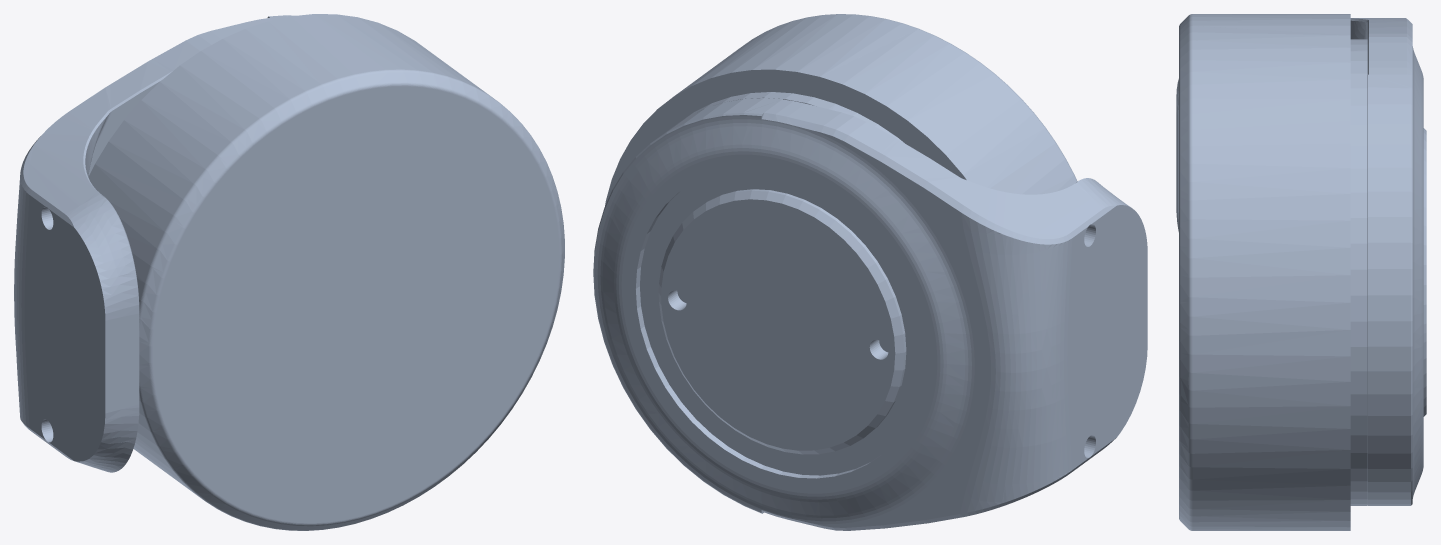
File: hip.dae
3 views of the same model, side by side, from view 1: azimuth 30°, elevation 25°; view 2: azimuth 150°, elevation 25°; view 3: azimuth 270°, elevation 25° (orthographic). The views are drawn at different scales.
Parts seen in each view (by area): view 1: Hip; view 2: Hip; view 3: Hip.
Part boxes in pixels (bbox=[...]): Hip: bbox=[14, 14, 564, 530]; Hip: bbox=[593, 14, 1147, 530]; Hip: bbox=[1176, 14, 1426, 530].
Size of the model in its own units: 0.1 by 0.0445 by 0.092.
